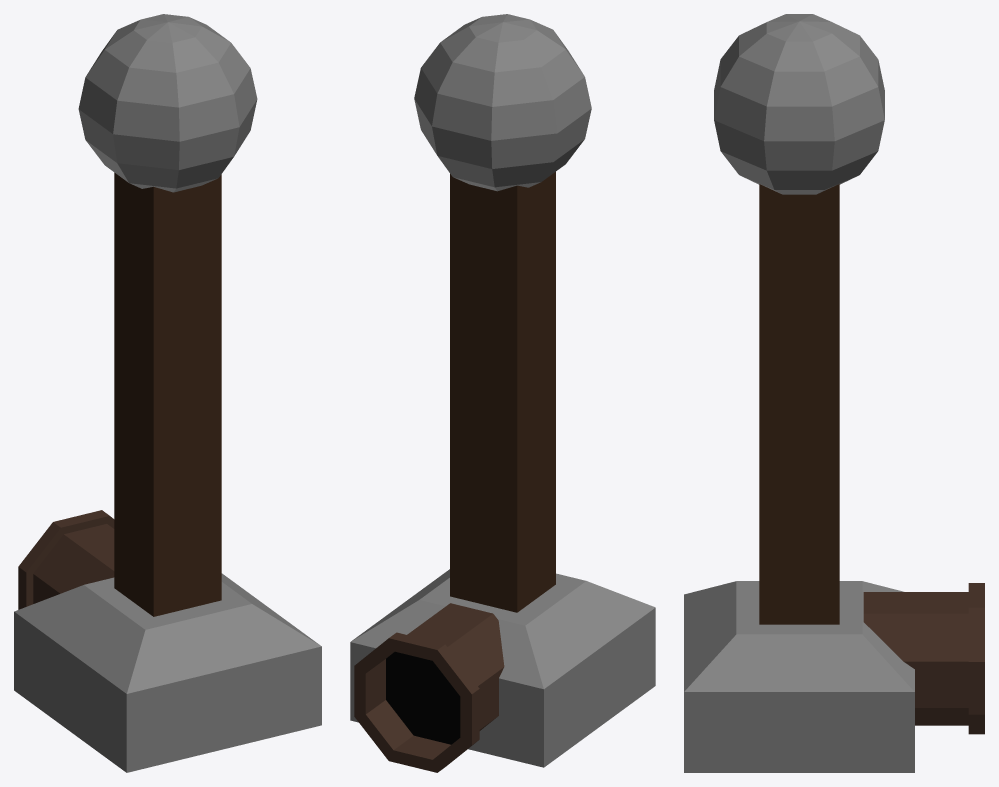
File: Transceiver.fbx
The picture shows the model from 3 angles, left to right: view 1: azimuth 30°, elevation 25°; view 2: azimuth 150°, elevation 25°; view 3: azimuth 270°, elevation 25°; orthographic projection. The views are drawn at different scales.
Visible parts, largest first — view 1: Cube.093, Cylinder.064; view 2: Cube.093, Cylinder.064; view 3: Cube.093, Cylinder.064.
Boxes of the visible parts, box(x1,y1,x2,y2) form: Cube.093: box(14, 14, 321, 772); Cylinder.064: box(18, 510, 114, 609); Cube.093: box(350, 14, 655, 767); Cylinder.064: box(354, 603, 504, 772); Cube.093: box(684, 14, 914, 772); Cylinder.064: box(863, 583, 984, 734).
Bounding box in the file's own units: 60.54 × 203 × 78.92.
